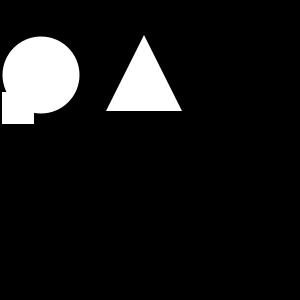circle: (2, 92, 34, 124)
rectangle: (2, 36, 80, 113)
triangle: (106, 35, 182, 111)
